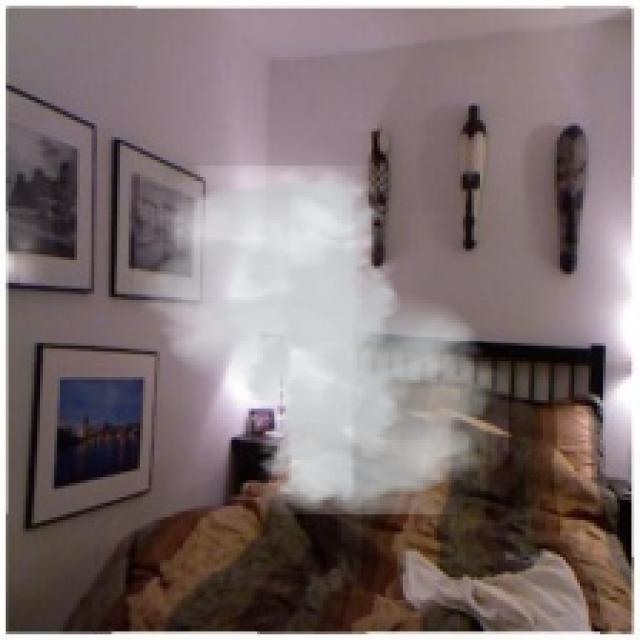Smoke: (134, 166, 509, 514)
